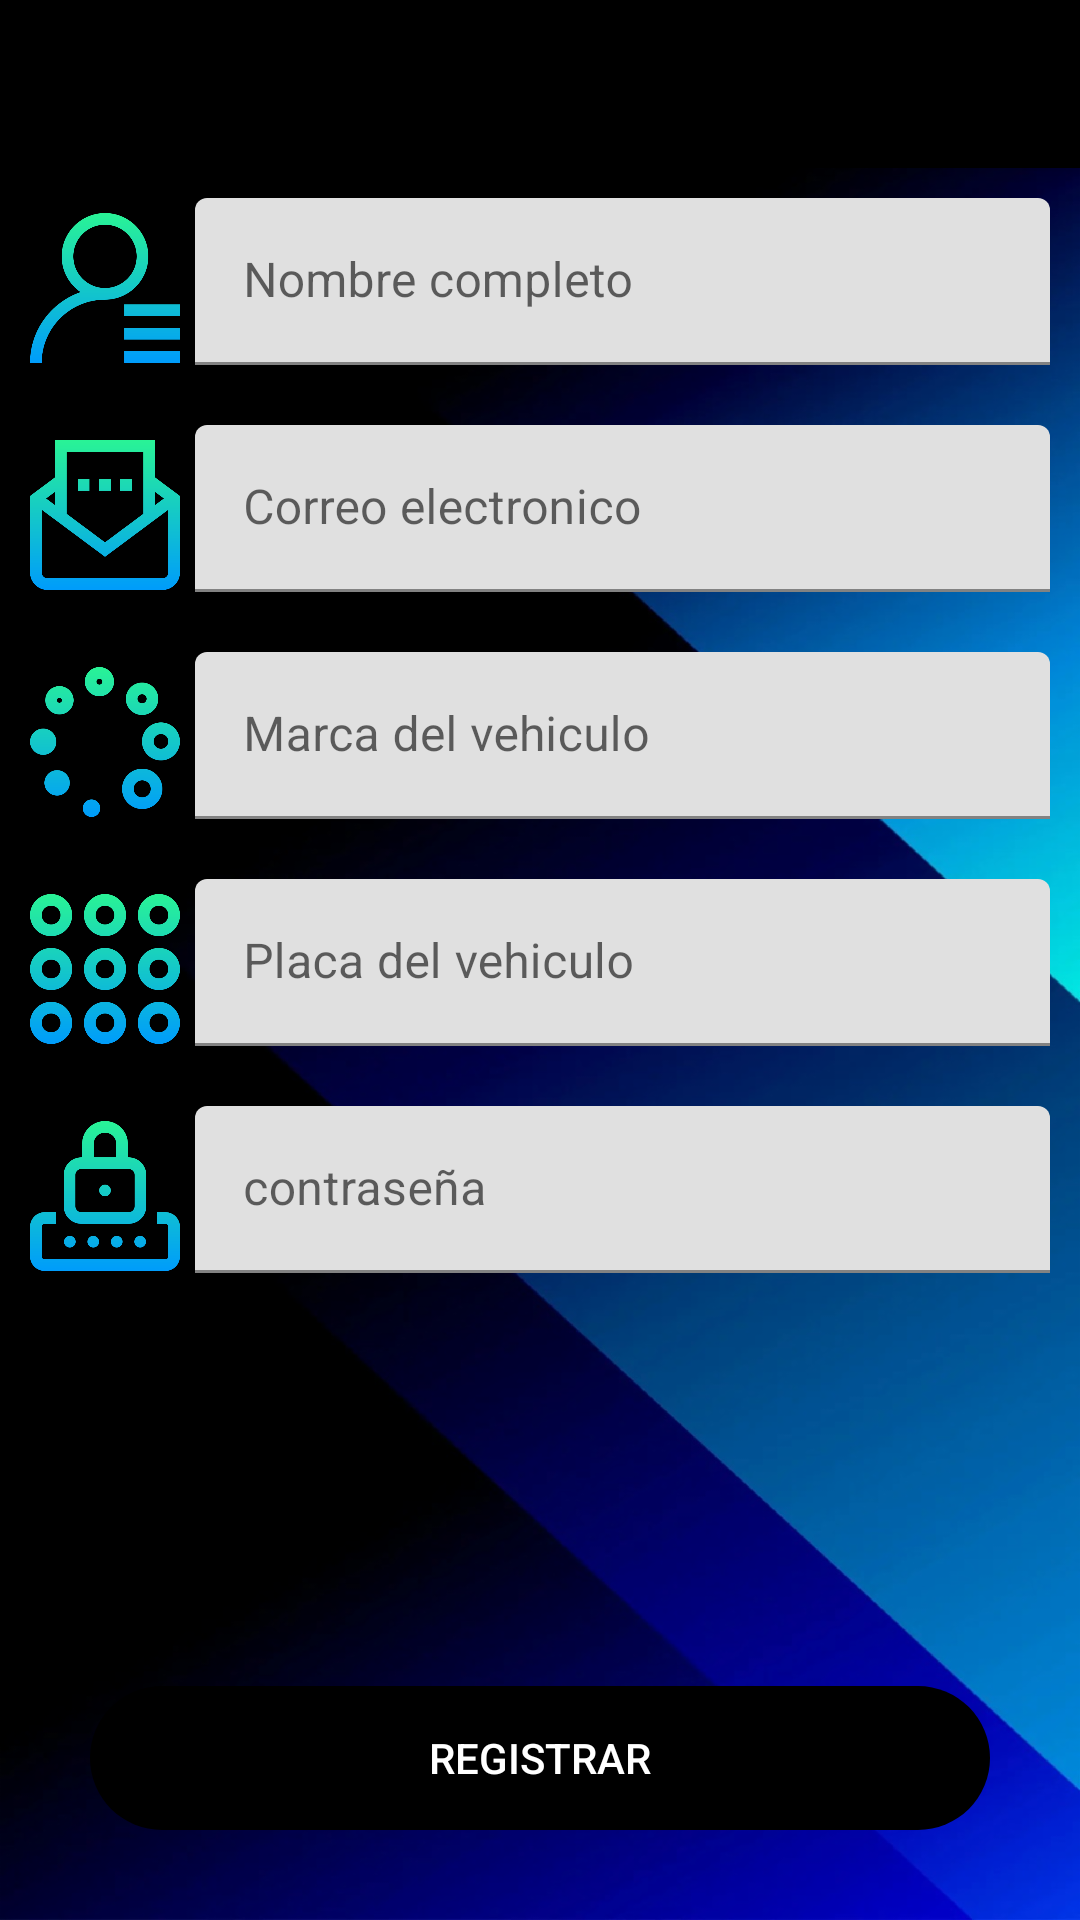

Named icons in this screenshot (1080px x 1920px) and their centers, (x,y):
emails: (105,515)
nombreuser: (105,288)
